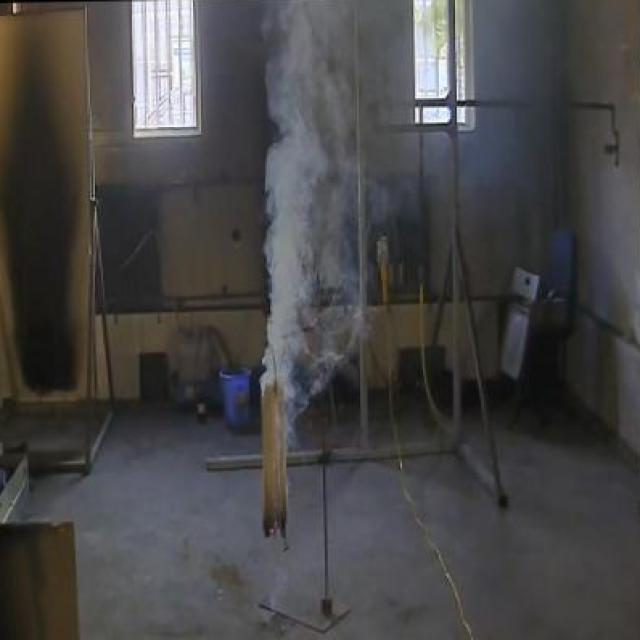fire: (254, 0, 375, 373)
